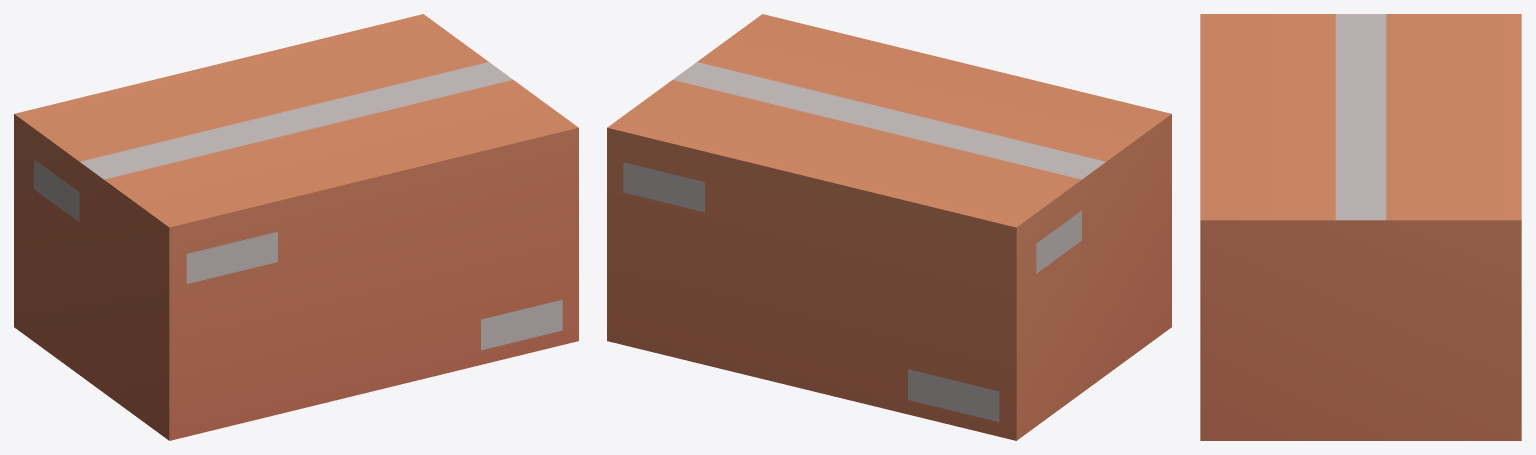
File: box break.fbx
The picture shows the model from 3 angles, left to right: view 1: azimuth 30°, elevation 25°; view 2: azimuth 150°, elevation 25°; view 3: azimuth 270°, elevation 25°; orthographic projection. The views are drawn at different scales.
Visible parts, largest first — view 1: polySurface54, polySurface55; view 2: polySurface54, polySurface55; view 3: polySurface55, polySurface54.
Boxes of the visible parts, box(x1,y1,x2,y2) form: polySurface54: box(14, 65, 404, 440); polySurface55: box(215, 14, 578, 399); polySurface54: box(791, 57, 1171, 440); polySurface55: box(607, 14, 941, 398); polySurface55: box(1200, 110, 1521, 440); polySurface54: box(1200, 14, 1521, 131).
Size of the model in its own units: 128 by 63.56 by 83.89.
1 material, 1 textured.
